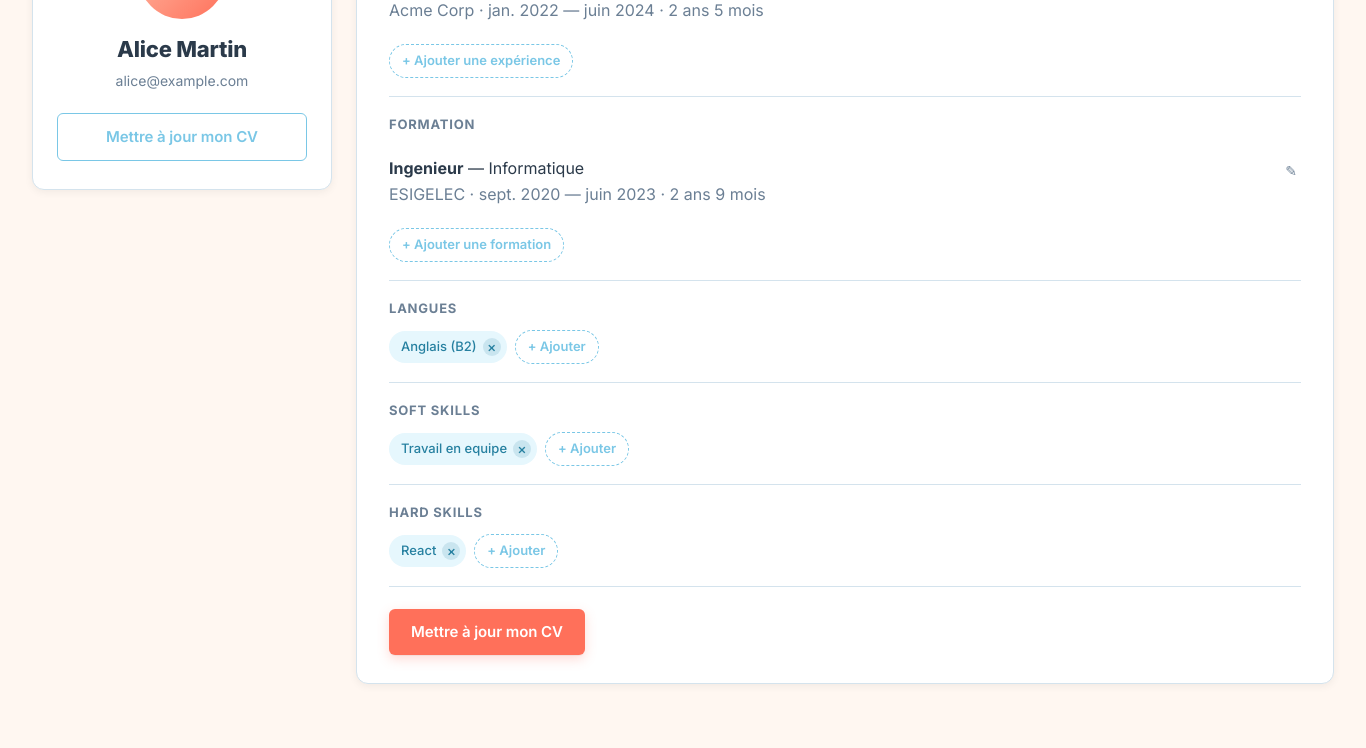
Scenario: ProfilePage › shows_new_skill_chip_immediately_before_put_resolves
The width and height of the screenshot is (1366, 748).
(page scrolled)
Expected: the heading "Hard skills" is shown, [389, 504, 483, 520]
Click the button "+ Ajouter" next to "React" at (516, 551), box [474, 534, 558, 568]
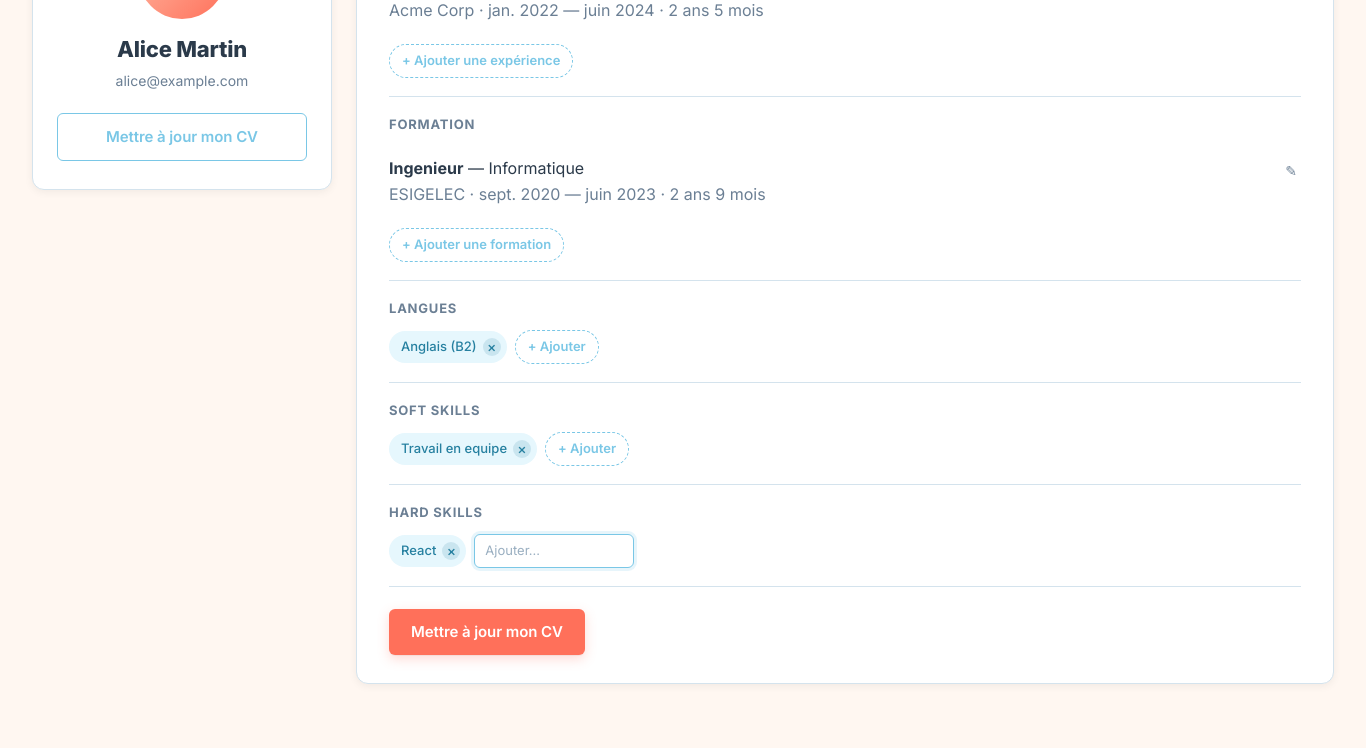
Type "TypeScript" into the field with placeholder "Ajouter..." at (554, 551), box [474, 534, 634, 568]
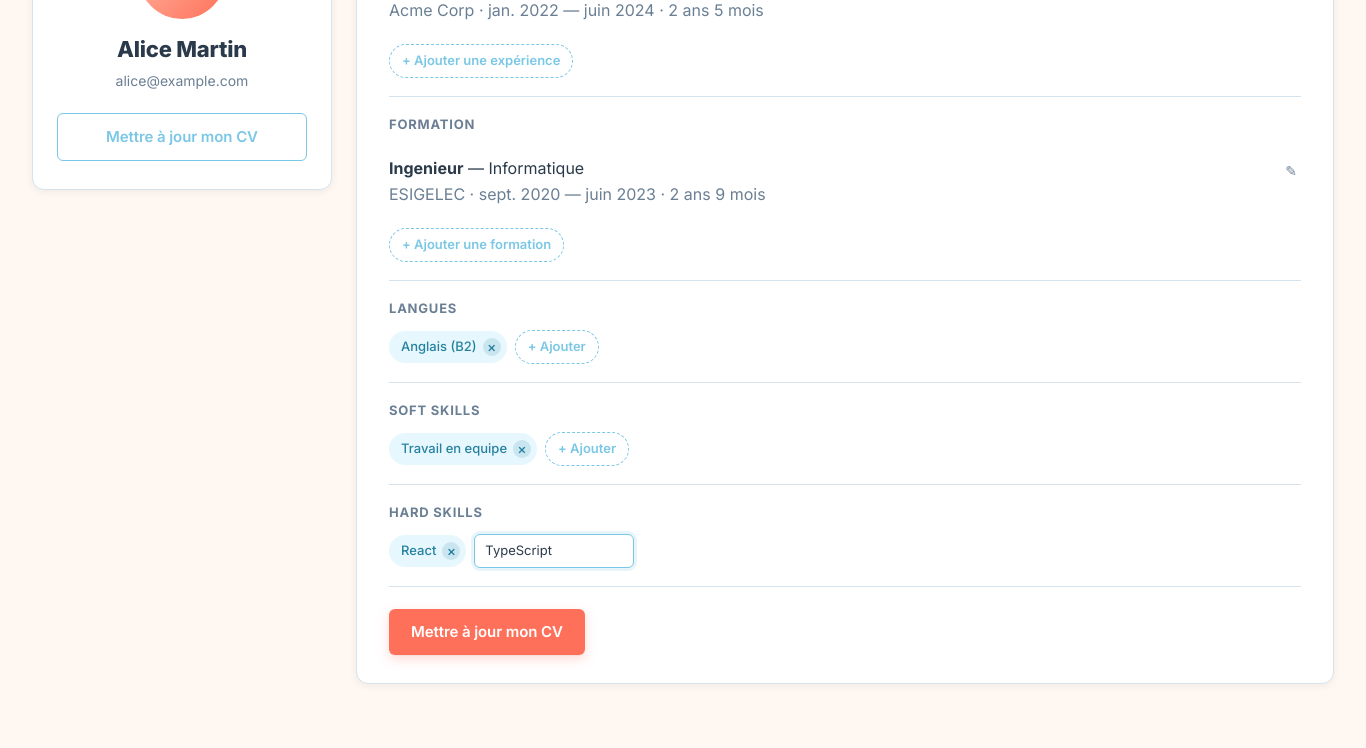
Press Enter
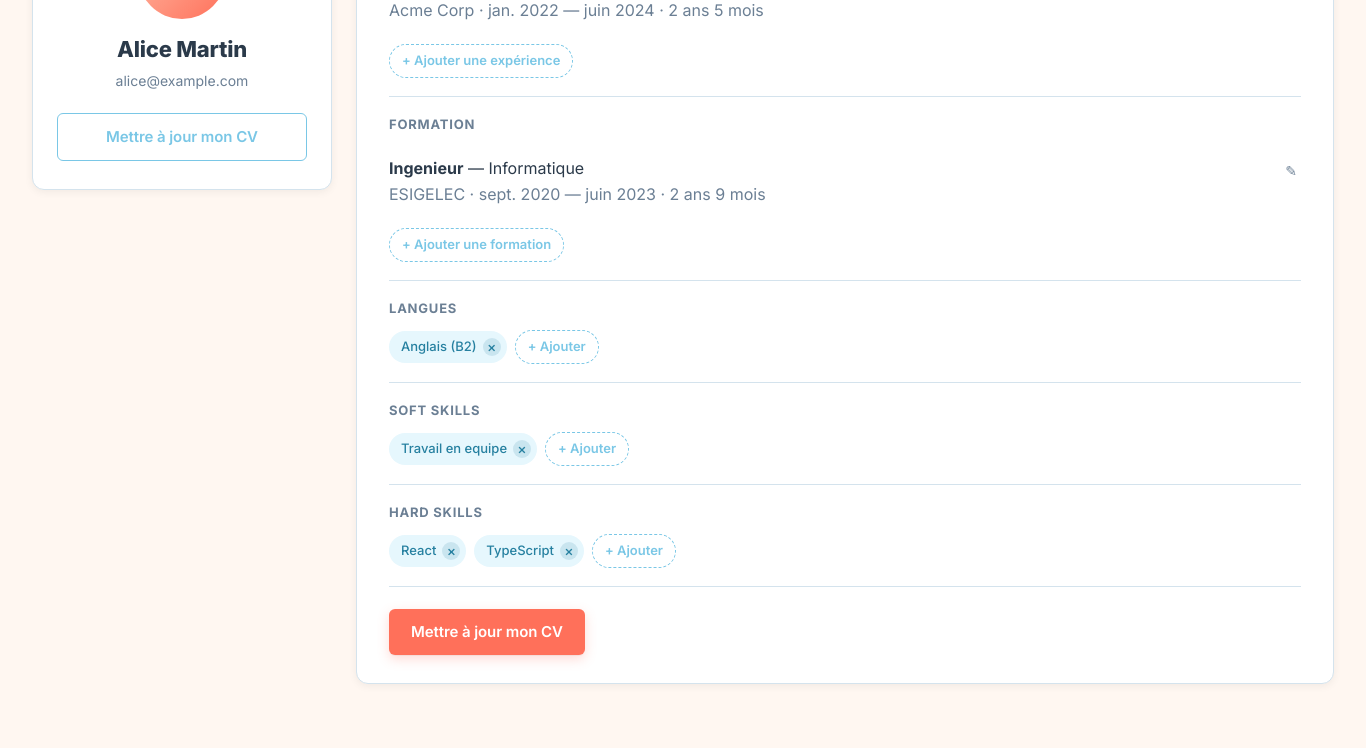
Now the text "TypeScript" is shown, box [486, 542, 554, 558]
